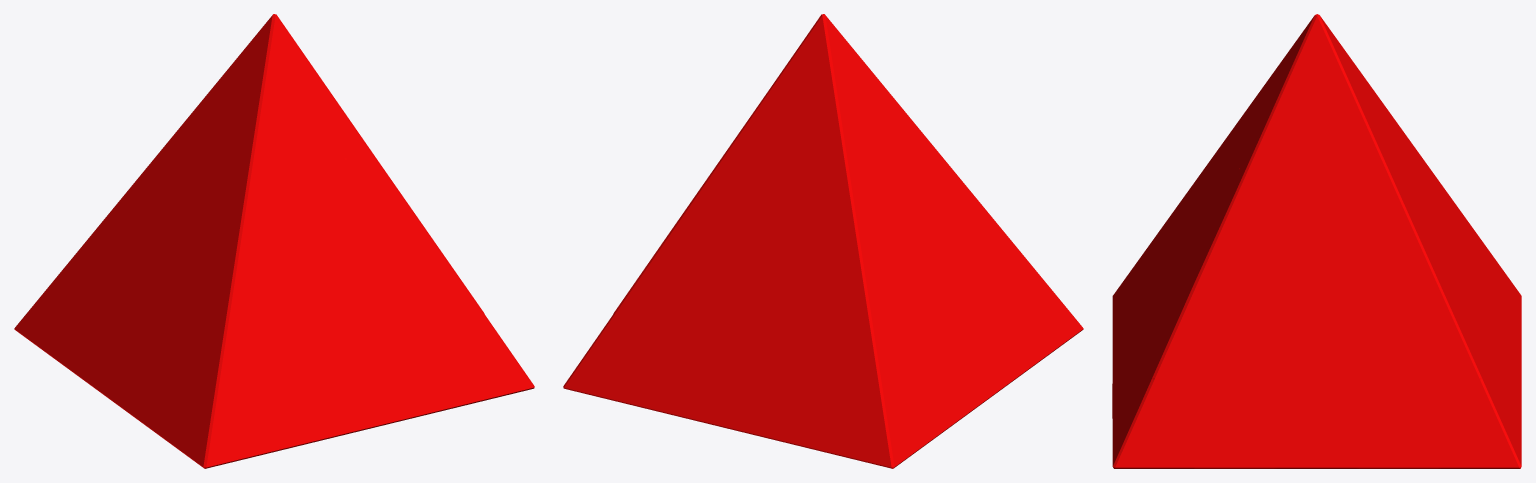
The model's file is Tower.fbx.
The picture shows the model from 3 angles, left to right: view 1: azimuth 30°, elevation 25°; view 2: azimuth 150°, elevation 25°; view 3: azimuth 270°, elevation 25°; orthographic projection. The views are drawn at different scales.
Visible parts, largest first — view 1: piramida_krysztalowa_02; view 2: piramida_krysztalowa_02; view 3: piramida_krysztalowa_02.
Part boxes in pixels (bbox=[...]): piramida_krysztalowa_02: bbox=[14, 14, 534, 468]; piramida_krysztalowa_02: bbox=[563, 14, 1083, 468]; piramida_krysztalowa_02: bbox=[1112, 14, 1521, 468].
Size of the model in its own units: 5.7 by 5.66 by 5.7.
1 material, 1 textured.
